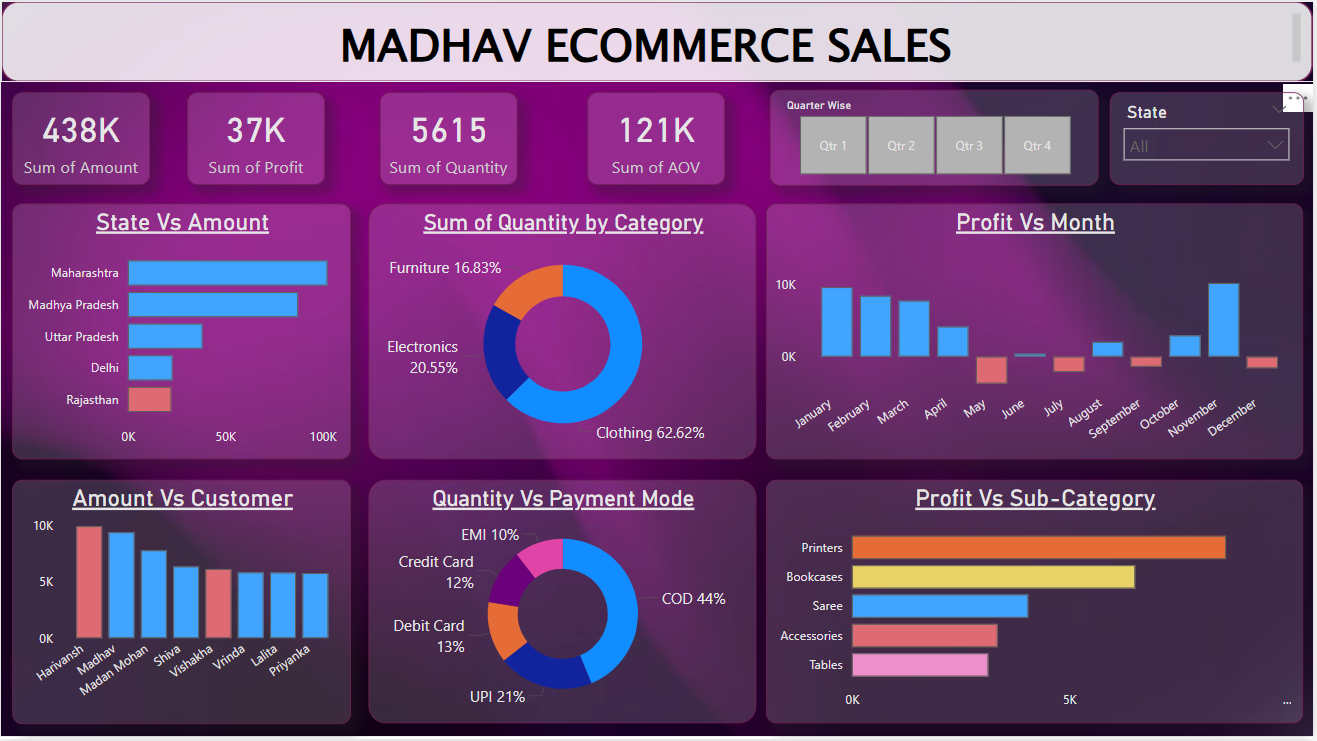

The page's visual inventory and layout, read from the dashboard file:
{"tool":"powerbi","page":{"name":"Page 1","canvas":[1280,720],"ordinal":0},"visuals":[{"type":"textbox","box":[0,0,1280.3,79.6],"z":0},{"type":"columnChart","title":"Profit Vs Month","fields":{"Y":["Details.Profit"],"Category":["Orders.Order Date.Variation.Date Hierarchy.Month"]},"box":[746.5,197.6,524.2,249.7],"z":1000},{"type":"clusteredBarChart","title":"Profit Vs Sub-Category","fields":{"Y":["Details.Profit"],"Category":["Details.Sub-Category"]},"box":[746.5,466.6,524.2,237.4],"z":2000},{"type":"donutChart","title":"Quantity Vs Payment Mode","fields":{"Y":["Details.Quantity"],"Category":["Details.PaymentMode"]},"box":[358.1,466.6,378.7,237.4],"z":3000},{"type":"donutChart","fields":{"Category":["Details.Category"],"Y":["Details.Quantity"]},"box":[358.1,197.6,378.7,249.7],"z":4000},{"type":"clusteredBarChart","title":"State Vs Amount","fields":{"Y":["Details.Amount"],"Category":["Orders.State"]},"box":[11,197.6,330.7,249.7],"z":5000},{"type":"columnChart","title":" Amount Vs Customer","fields":{"Category":["Orders.CustomerName"],"Y":["Details.Amount"]},"box":[11,466.6,330.7,238.8],"z":6000},{"type":"card","fields":{"Values":["Details.Amount"]},"box":[11,89,134.5,90.6],"z":7000},{"type":"card","fields":{"Values":["Details.Profit"]},"box":[181.1,89.2,134.5,90.6],"z":8000},{"type":"card","fields":{"Values":["Details.Quantity"]},"box":[369.1,89.2,134.5,90.6],"z":9000},{"type":"card","fields":{"Values":["Details.AOV"]},"box":[572.2,89.2,134.5,90.6],"z":10000},{"type":"slicer","fields":{"Values":["Orders.Order Date.Variation.Date Hierarchy.Quarter"]},"box":[750.6,86.4,321.1,93.3],"z":11000},{"type":"slicer","fields":{"Values":["Orders.State"]},"box":[1081.3,89.2,189.4,90.6],"z":12000}]}

Visuals, with their boxes in screenshot pixels (x1, y1, x2, y2), scaled from the page's 1280x720 canvas onto the 1317x741 screenshot:
textbox: (x1=0, y1=0, x2=1316, y2=82)
"Profit Vs Month" columnChart: (x1=768, y1=203, x2=1307, y2=460)
"Profit Vs Sub-Category" clusteredBarChart: (x1=768, y1=480, x2=1307, y2=725)
"Quantity Vs Payment Mode" donutChart: (x1=368, y1=480, x2=758, y2=725)
donutChart - Details.Category x Details.Quantity: (x1=368, y1=203, x2=758, y2=460)
"State Vs Amount" clusteredBarChart: (x1=11, y1=203, x2=352, y2=460)
" Amount Vs Customer" columnChart: (x1=11, y1=480, x2=352, y2=726)
card - Details.Amount: (x1=11, y1=92, x2=150, y2=185)
card - Details.Profit: (x1=186, y1=92, x2=325, y2=185)
card - Details.Quantity: (x1=380, y1=92, x2=518, y2=185)
card - Details.AOV: (x1=589, y1=92, x2=727, y2=185)
slicer - Orders.Order Date.Variation.Date Hierarchy.Quarter: (x1=772, y1=89, x2=1103, y2=185)
slicer - Orders.State: (x1=1113, y1=92, x2=1307, y2=185)
